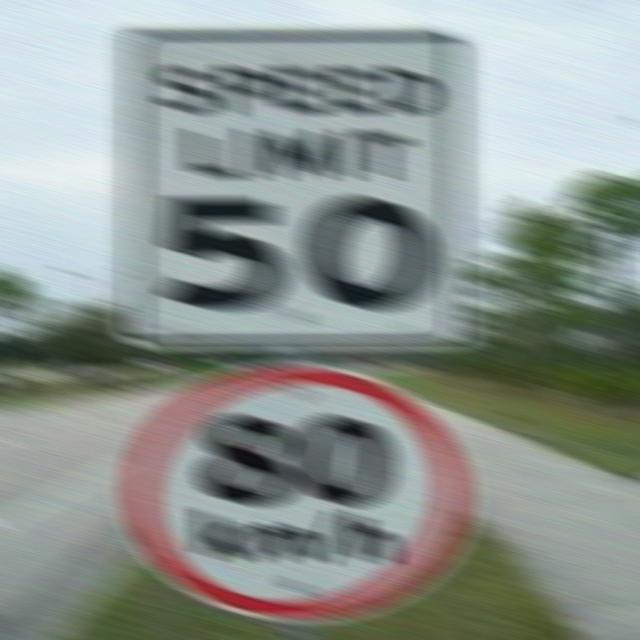speedLimit50: (112, 16, 469, 352)
